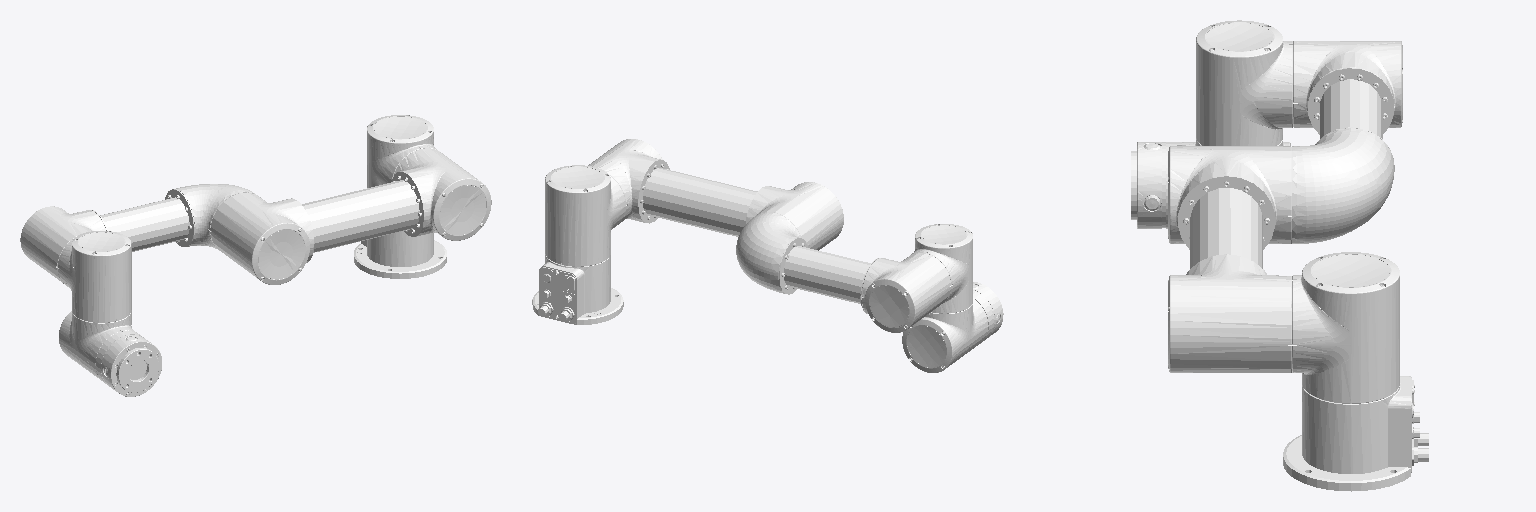
robot.urdf — fairino3mt_v6_robot:
<?xml version="1.0" encoding="utf-8"?>
<!-- This URDF was automatically created by SolidWorks to URDF Exporter! Originally created by [author] ([email redacted]) 
     Commit Version: 1.6.0-4-g7f85cfe  Build Version: 1.6.7995.38578
     For more information, please see http://wiki.ros.org/sw_urdf_exporter -->
<robot
  name="fairino3mt_v6_robot">
  <link
    name="base_link">
    <inertial>
      <origin
        xyz="-1.5389E-05 0.0050006 0.035526"
        rpy="0 0 0" />
      <mass
        value="0.60007" />
      <inertia
        ixx="0.00077666"
        ixy="5.9011E-07"
        ixz="4.3886E-07"
        iyy="0.00066312"
        iyz="-1.924E-05"
        izz="0.00080686" />
    </inertial>
    <visual>
      <origin
        xyz="0 0 0"
        rpy="0 0 0" />
      <geometry>
        <mesh
          filename="package://fairino_description/meshes/fairino3_mt_v6/base_link.STL" />
      </geometry>
      <material
        name="">
        <color
          rgba="1 1 1 1" />
      </material>
    </visual>
  </link>
  <link
    name="shoulder_link">
    <inertial>
      <origin
        xyz="1.6205E-07 -0.0044494 0.00092552"
        rpy="0 0 0" />
      <mass
        value="0.74148" />
      <inertia
        ixx="0.0011031"
        ixy="2.2689E-08"
        ixz="-5.9115E-09"
        iyy="0.001042"
        iyz="-3.0351E-06"
        izz="0.00087179" />
    </inertial>
    <visual>
      <origin
        xyz="0 0 0"
        rpy="0 0 0" />
      <geometry>
        <mesh
          filename="package://fairino_description/meshes/fairino3_mt_v6/shoulder_link.STL" />
      </geometry>
      <material
        name="">
        <color
          rgba="1 1 1 1" />
      </material>
    </visual>
  </link>
  <joint
    name="joint1"
    type="revolute">
    <origin
      xyz="0 0 0.1398"
      rpy="-3.1416 0 3.1416" />
    <parent
      link="base_link" />
    <child
      link="shoulder_link" />
    <axis
      xyz="0 0 -1" />
    <limit
      lower="-3.054"
      upper="3.054"
      effort="0"
      velocity="2.618" />
  </joint>
  <link
    name="upperarm_link">
    <inertial>
      <origin
        xyz="-0.140004201806272 5.58207727460597E-05 -0.00156100739557976"
        rpy="0 0 0" />
      <mass
        value="2.23321682714675" />
      <inertia
        ixx="0.00277222130924851"
        ixy="-1.37828945216777E-07"
        ixz="3.33442608957987E-06"
        iyy="0.0336038296729029"
        iyz="2.35299017265147E-05"
        izz="0.0329310083460027" />
    </inertial>
    <visual>
      <origin
        xyz="0 0 0"
        rpy="0 0 0" />
      <geometry>
        <mesh
          filename="package://fairino_description/meshes/fairino3_mt_v6/upperarm_link.STL" />
      </geometry>
      <material
        name="">
        <color
          rgba="1 1 1 1" />
      </material>
    </visual>
  </link>
  <joint
    name="joint2"
    type="revolute">
    <origin
      xyz="-1.2826E-05 -0.114 0"
      rpy="-1.6057 0 3.1416" />
    <parent
      link="shoulder_link" />
    <child
      link="upperarm_link" />
    <axis
      xyz="0.00011251 -0.034899 0.99939" />
    <limit
      lower="-4.6251"
      upper="1.4835"
      effort="0"
      velocity="2.618" />
  </joint>
  <link
    name="forearm_link">
    <inertial>
      <origin
        xyz="0.128489459057861 0.00376680150361507 0.10785794491905"
        rpy="0 0 0" />
      <mass
        value="1.44662851848972" />
      <inertia
        ixx="0.00140089380811807"
        ixy="-3.09715756532135E-05"
        ixz="-0.000886845494769602"
        iyy="0.015239432128819"
        iyz="-1.00154489220657E-05"
        izz="0.0149528743879964" />
    </inertial>
    <visual>
      <origin
        xyz="0 0 0"
        rpy="0 0 0" />
      <geometry>
        <mesh
          filename="package://fairino_description/meshes/fairino3_mt_v6/forearm_link.STL" />
      </geometry>
      <material
        name="">
        <color
          rgba="1 1 1 1" />
      </material>
    </visual>
  </link>
  <joint
    name="joint3"
    type="revolute">
    <origin
      xyz="-0.28 0 3.1484E-05"
      rpy="3.1416 0 3.1416" />
    <parent
      link="upperarm_link" />
    <child
      link="forearm_link" />
    <axis
      xyz="0.00011251 0.034899 -0.99939" />
    <limit
      lower="-2.618"
      upper="2.618"
      effort="0"
      velocity="2.618" />
  </joint>
  <link
    name="wrist1_link">
    <inertial>
      <origin
        xyz="-1.19852325169978E-05 -0.00486839591464538 -0.0978878853744289"
        rpy="0 0 0" />
      <mass
        value="0.547616738862515" />
      <inertia
        ixx="0.000678878371004643"
        ixy="-1.94106898510714E-10"
        ixz="1.6479628472316E-08"
        iyy="0.000507186880949965"
        iyz="1.50098142579532E-06"
        izz="0.000640889543804497" />
    </inertial>
    <visual>
      <origin
        xyz="0 0 0"
        rpy="0 0 0" />
      <geometry>
        <mesh
          filename="package://fairino_description/meshes/fairino3_mt_v6/wrist1_link.STL" />
      </geometry>
      <material
        name="">
        <color
          rgba="1 1 1 1" />
      </material>
    </visual>
  </link>
  <joint
    name="joint4"
    type="revolute">
    <origin
      xyz="0.24001 0.0039775 0.1139"
      rpy="0 0 0" />
    <parent
      link="forearm_link" />
    <child
      link="wrist1_link" />
    <axis
      xyz="0.00011251 0.034899 -0.99939" />
    <limit
      lower="-4.6251"
      upper="1.4835"
      effort="0"
      velocity="3.141" />
  </joint>
  <link
    name="wrist2_link">
    <inertial>
      <origin
        xyz="3.1563482516539E-07 0.00144837747535561 -0.0979981656105278"
        rpy="0 0 0" />
      <mass
        value="0.547626380184871" />
      <inertia
        ixx="0.000678897976847052"
        ixy="1.78116022515774E-08"
        ixz="-1.0048066582516E-08"
        iyy="0.000507255333260468"
        iyz="3.16271470048542E-06"
        izz="0.000640866115281559" />
    </inertial>
    <visual>
      <origin
        xyz="0 0 0"
        rpy="0 0 0" />
      <geometry>
        <mesh
          filename="package://fairino_description/meshes/fairino3_mt_v6/wrist2_link.STL" />
      </geometry>
      <material
        name="">
        <color
          rgba="1 1 1 1" />
      </material>
    </visual>
  </link>
  <joint
    name="joint5"
    type="revolute">
    <origin
      xyz="-1.1476E-05 -0.0035597 -0.10194"
      rpy="-1.6057 0 0" />
    <parent
      link="wrist1_link" />
    <child
      link="wrist2_link" />
    <axis
      xyz="0 0 -1" />
    <limit
      lower="0"
      upper="6.1087"
      effort="0"
      velocity="3.141" />
  </joint>
  <link
    name="wrist3_link">
    <inertial>
      <origin
        xyz="1.49717912467651E-05 -0.00272316182967933 -0.0765913876202761"
        rpy="0 0 0" />
      <mass
        value="0.200016226000929" />
      <inertia
        ixx="0.000107065136894161"
        ixy="5.00779308208581E-10"
        ixz="2.14643581957832E-08"
        iyy="0.000107249998715135"
        iyz="1.68863409083598E-06"
        izz="0.000158490290174127" />
    </inertial>
    <visual>
      <origin
        xyz="0 0 0"
        rpy="0 0 0" />
      <geometry>
        <mesh
          filename="package://fairino_description/meshes/fairino3_mt_v6/wrist3_link.STL" />
      </geometry>
      <material
        name="">
        <color
          rgba="1 1 1 1" />
      </material>
    </visual>
  </link>
  <joint
    name="joint6"
    type="revolute">
    <origin
      xyz="0 0 -0.102"
      rpy="1.6057 0 0" />
    <parent
      link="wrist2_link" />
    <child
      link="wrist3_link" />
    <axis
      xyz="0.00011251 0.034899 -0.99939" />
    <limit
      lower="-3.054"
      upper="3.054"
      effort="0"
      velocity="3.141" />
  </joint>
</robot>

--- Facts derived from the render (not from the file) ---
3 views of the same robot in one strip: view 1: azimuth 30°, elevation 25°; view 2: azimuth 150°, elevation 25°; view 3: azimuth 270°, elevation 25° (orthographic).
Model fairino3mt_v6_robot with 7 links and 6 joints (6 revolute), rooted at base_link, posed every joint at zero.
Links seen in each view (by area): view 1: upperarm_link, forearm_link, wrist1_link, base_link, wrist3_link, shoulder_link, wrist2_link; view 2: forearm_link, upperarm_link, shoulder_link, base_link, wrist2_link, wrist1_link, wrist3_link; view 3: upperarm_link, forearm_link, shoulder_link, wrist1_link, base_link, wrist3_link.
Link boxes in pixels (x1,y1,x2,y2): upperarm_link: (210,148,491,284); forearm_link: (20,184,260,283); wrist1_link: (58,231,131,322); base_link: (354,231,446,278); wrist3_link: (96,330,161,396); shoulder_link: (367,115,439,187); wrist2_link: (59,311,136,380); forearm_link: (736,212,950,332); upperarm_link: (588,139,843,250); shoulder_link: (545,165,625,266); base_link: (532,254,623,324); wrist2_link: (902,298,988,372); wrist1_link: (911,224,972,313); wrist3_link: (973,282,1003,343); upperarm_link: (1168,146,1291,372); forearm_link: (1292,41,1402,243); shoulder_link: (1292,252,1399,403); wrist1_link: (1196,20,1292,145); base_link: (1283,376,1428,491); wrist3_link: (1131,142,1181,228).
Bounding box of the posed robot: 0.6229 × 0.2738 × 0.1964 m (x, y, z).
Meshes: 7 distinct files referenced, 7 mesh visuals loaded (7 binary STL).